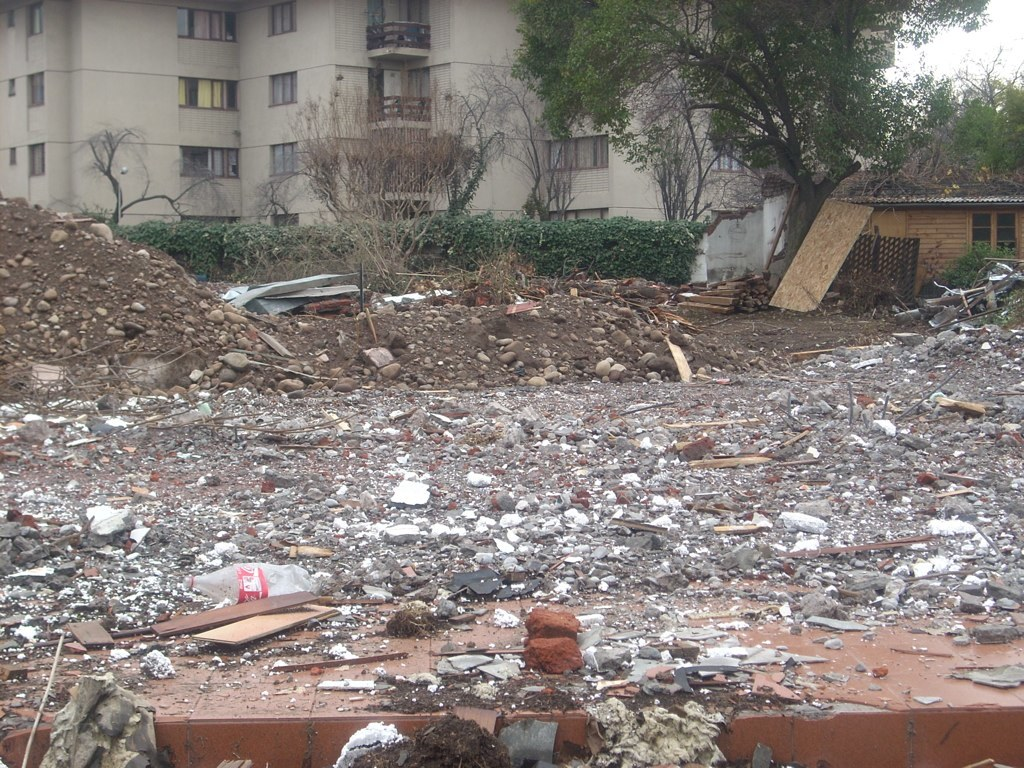Tree: (506, 0, 996, 289), (286, 92, 479, 287), (80, 126, 220, 232), (962, 78, 1024, 169)
